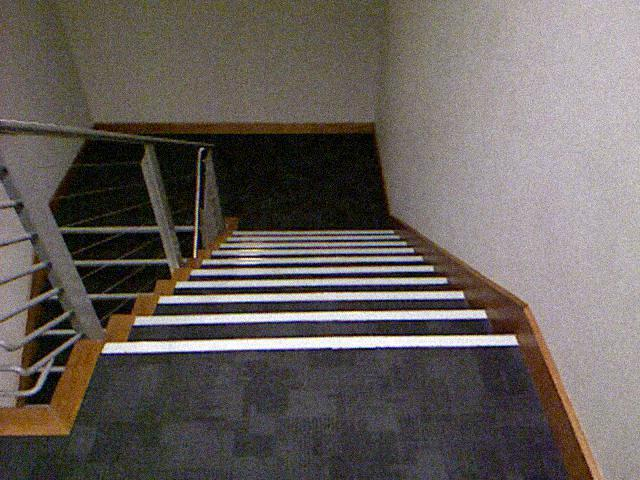Escaleras: (98, 227, 519, 360), (12, 221, 224, 417)
